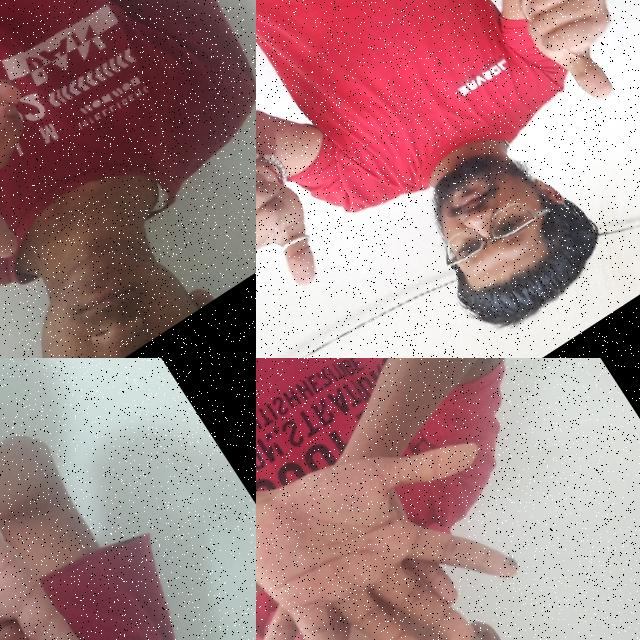Corna: (0, 447, 142, 640)
Moutza: (256, 371, 572, 640), (256, 438, 506, 640)
Okay: (0, 0, 99, 308)
Thumbs Up: (256, 118, 359, 327), (487, 0, 640, 132)
